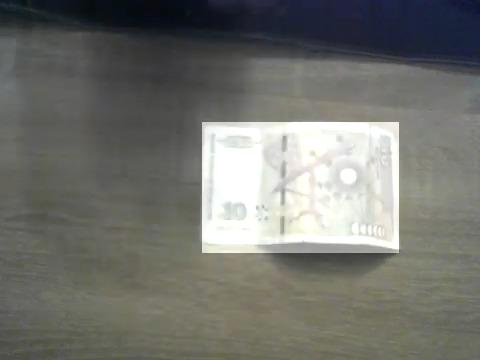10leva: (202, 122, 399, 253)
